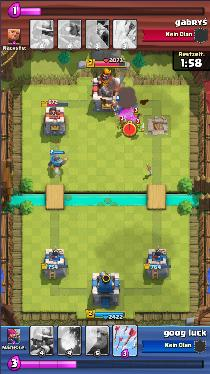ally_knight: (47, 154, 68, 170)
ally_wallbreaker: (112, 101, 123, 114)
enemy_goblin: (133, 121, 144, 135), (118, 118, 129, 130), (131, 110, 142, 121)
